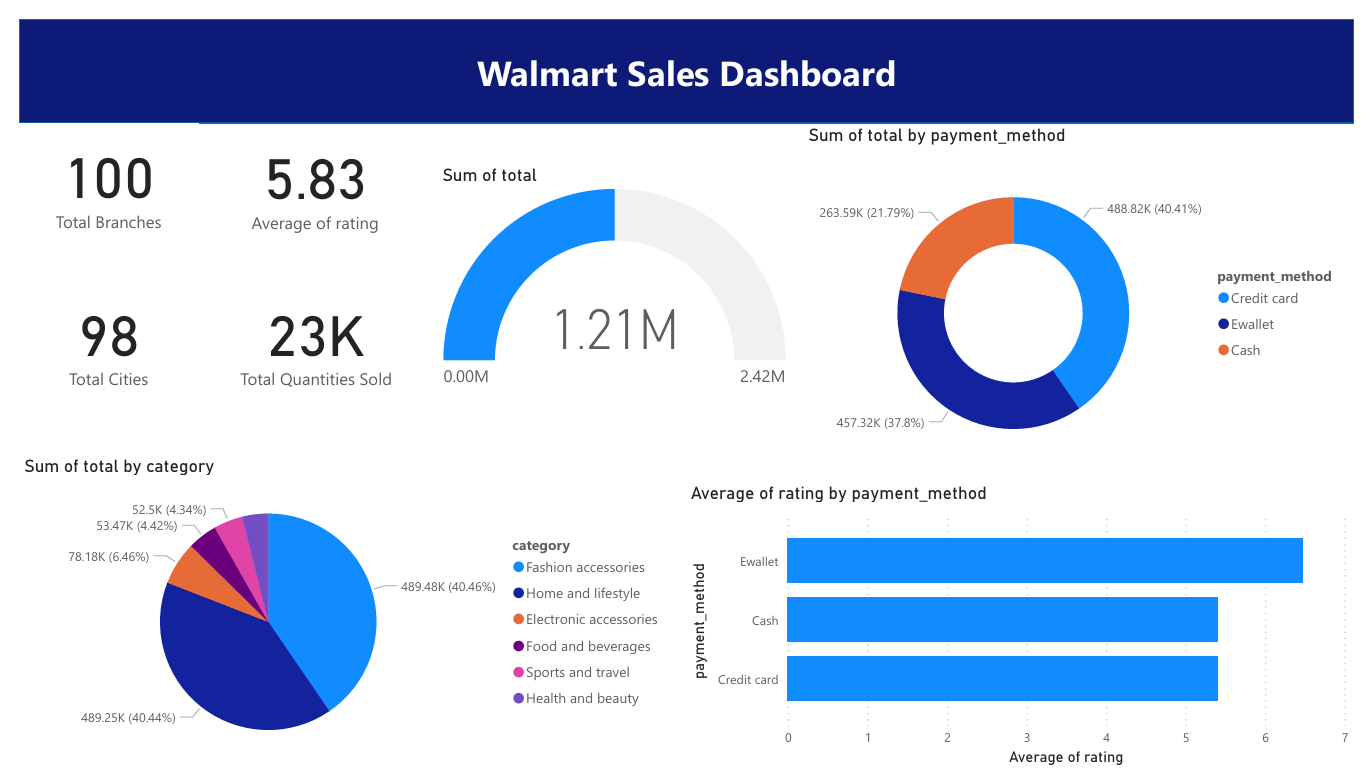

The page's visual inventory and layout, read from the dashboard file:
{"tool":"powerbi","page":{"name":"Page 1","canvas":[1280,720],"ordinal":0},"visuals":[{"type":"pieChart","fields":{"Category":["Walmart_Clean_data.category"],"Y":["Sum(Walmart_Clean_data.total)"]},"box":[0,418,627,302.6],"z":0},{"type":"shape","box":[0,0,1280.4,99.8],"z":1000},{"type":"clusteredBarChart","fields":{"Category":["Walmart_Clean_data.payment_method"],"Y":["Avg(Walmart_Clean_data.rating)"]},"box":[639.4,444.5,641,276],"z":2000},{"type":"card","fields":{"Values":["Count(Walmart_Clean_data.branch)"]},"box":[0,99.8,171.6,112.3],"z":3000},{"type":"card","fields":{"Values":["Count(Walmart_Clean_data.City)"]},"box":[0,251.1,171.6,112.3],"z":4000},{"type":"donutChart","fields":{"Category":["Walmart_Clean_data.payment_method"],"Y":["Sum(Walmart_Clean_data.total)"]},"box":[751.7,101.4,528.7,344.7],"z":5000},{"type":"gauge","fields":{"Y":["Sum(Walmart_Clean_data.total)"]},"box":[400.8,138.8,340,224.6],"z":6000},{"type":"card","fields":{"Values":["Avg(Walmart_Clean_data.rating)"]},"box":[185.6,101.4,196.5,110.7],"z":7000},{"type":"card","fields":{"Values":["Sum(Walmart_Clean_data.quantity)"]},"box":[185.6,232.4,198.1,149.7],"z":8000}]}

Visuals, with their boxes in screenshot pixels (x1, y1, x2, y2), scaled from the page's 1280x720 canvas onto the 1370x781 screenshot:
pieChart - Walmart_Clean_data.category x Sum(Walmart_Clean_data.total): (0,453,671,780)
shape: (0,0,1369,108)
clusteredBarChart - Walmart_Clean_data.payment_method x Avg(Walmart_Clean_data.rating): (684,482,1369,780)
card - Count(Walmart_Clean_data.branch): (0,108,184,230)
card - Count(Walmart_Clean_data.City): (0,272,184,394)
donutChart - Walmart_Clean_data.payment_method x Sum(Walmart_Clean_data.total): (805,110,1369,484)
gauge - Sum(Walmart_Clean_data.total): (429,151,793,394)
card - Avg(Walmart_Clean_data.rating): (199,110,409,230)
card - Sum(Walmart_Clean_data.quantity): (199,252,411,414)
